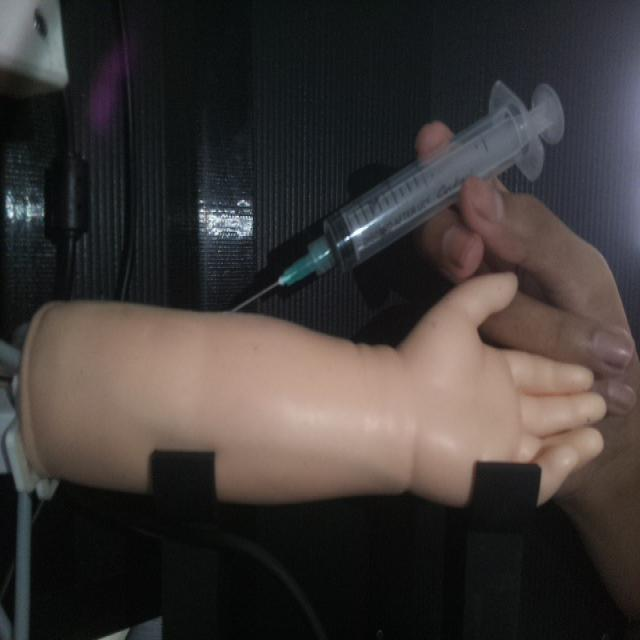Outside: (227, 76, 566, 313)
